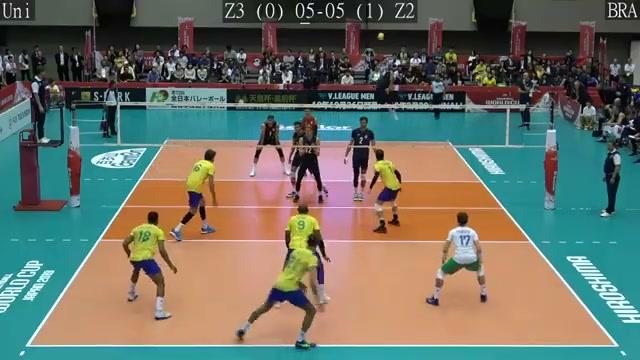ball: (377, 30, 384, 41)
